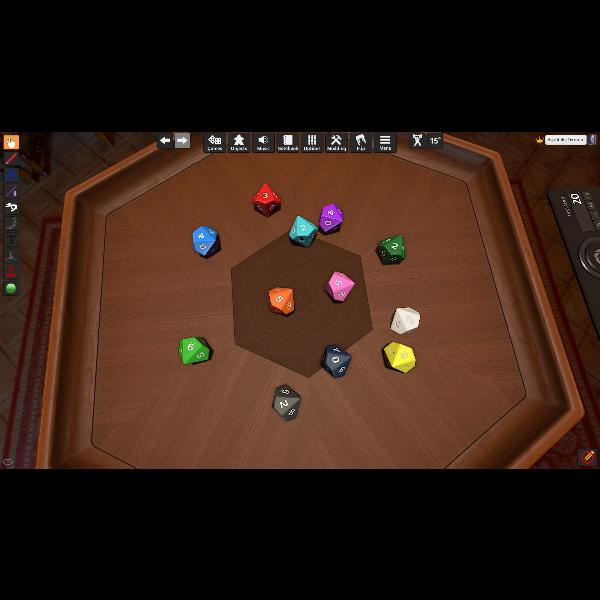d10: (272, 384, 300, 422), (322, 344, 351, 378), (252, 181, 280, 215), (383, 341, 413, 372), (324, 270, 353, 302), (179, 336, 211, 364), (192, 225, 219, 257), (288, 216, 316, 246), (390, 306, 418, 334), (382, 234, 408, 264), (318, 202, 342, 234), (268, 286, 294, 314)
